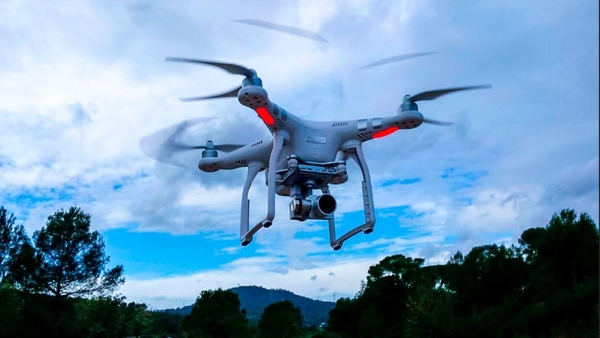drone: (150, 44, 492, 253)
